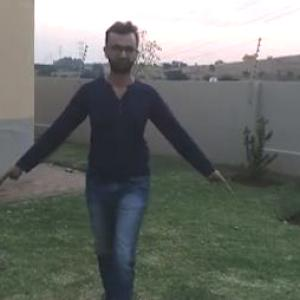land: (20, 25, 207, 275)
